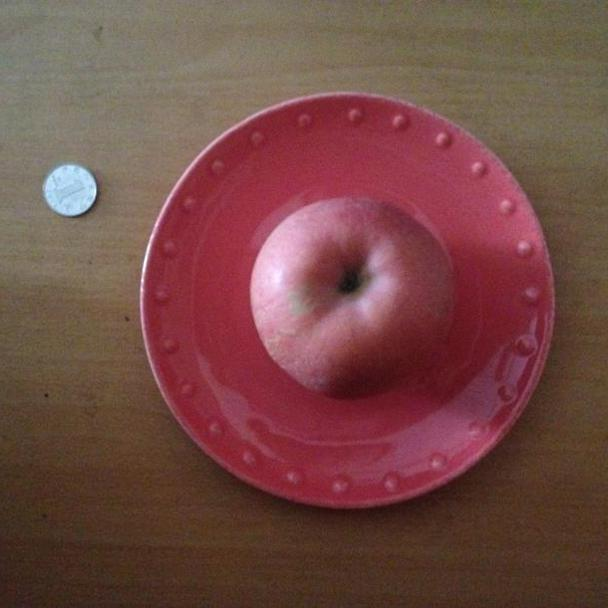apple: (247, 195, 462, 401)
